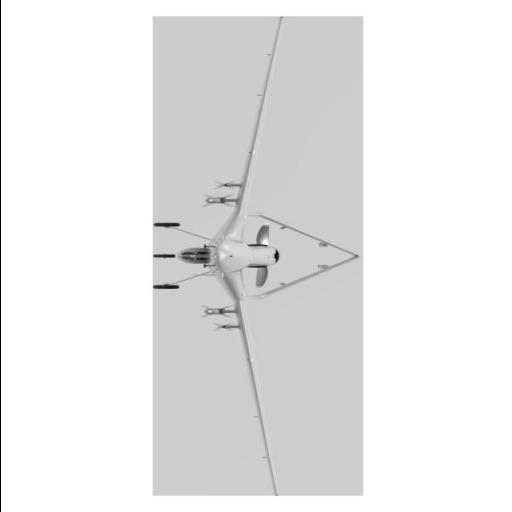uav: (167, 14, 346, 505)
